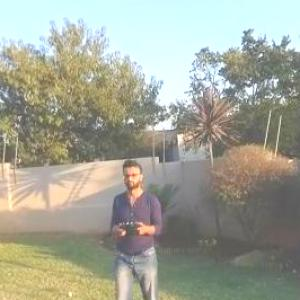follow: (106, 156, 167, 299)
